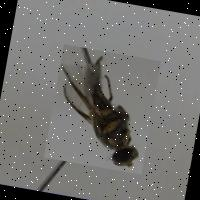Oriental-fruit-fly: (43, 44, 160, 174)
